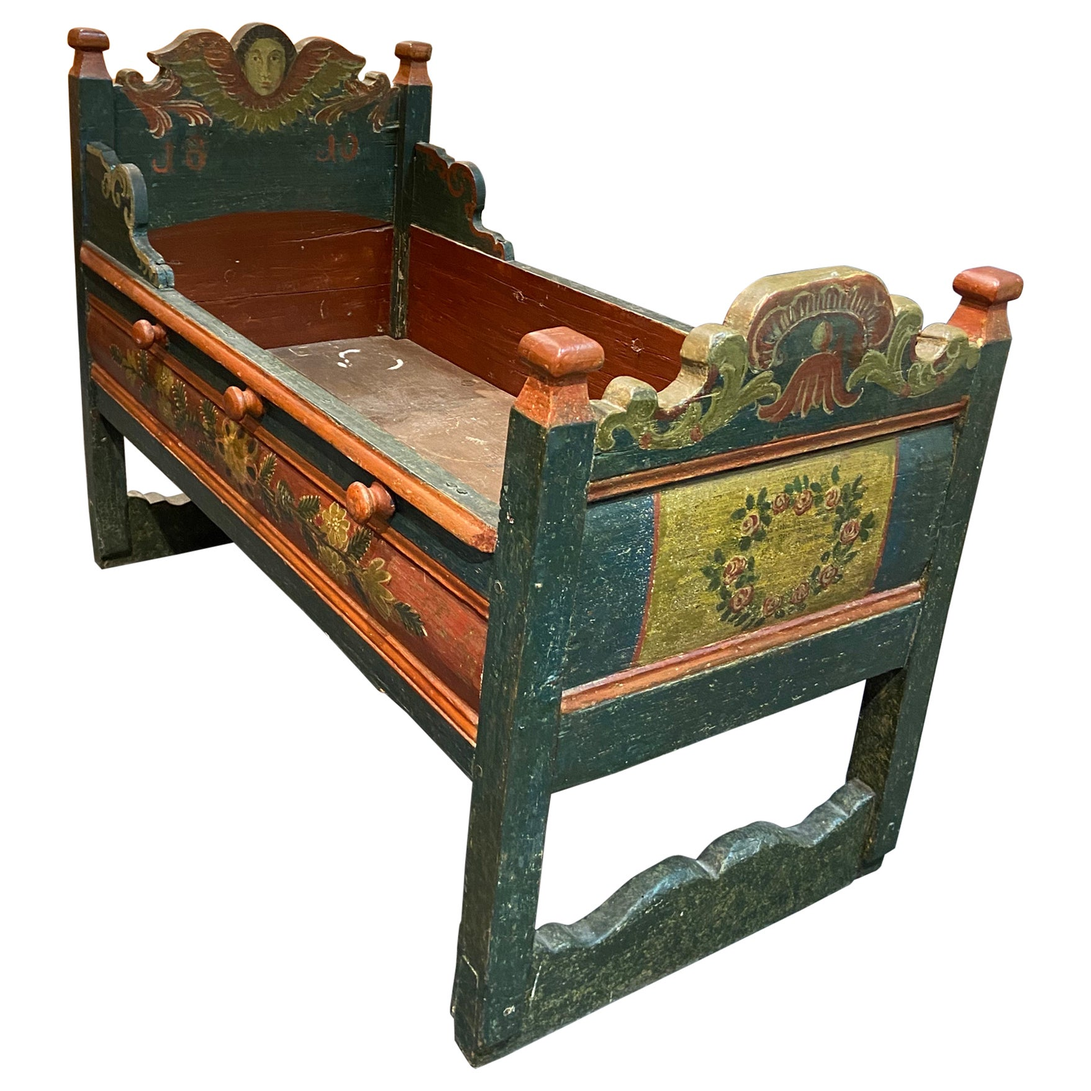crib: (70, 24, 1021, 1063)
